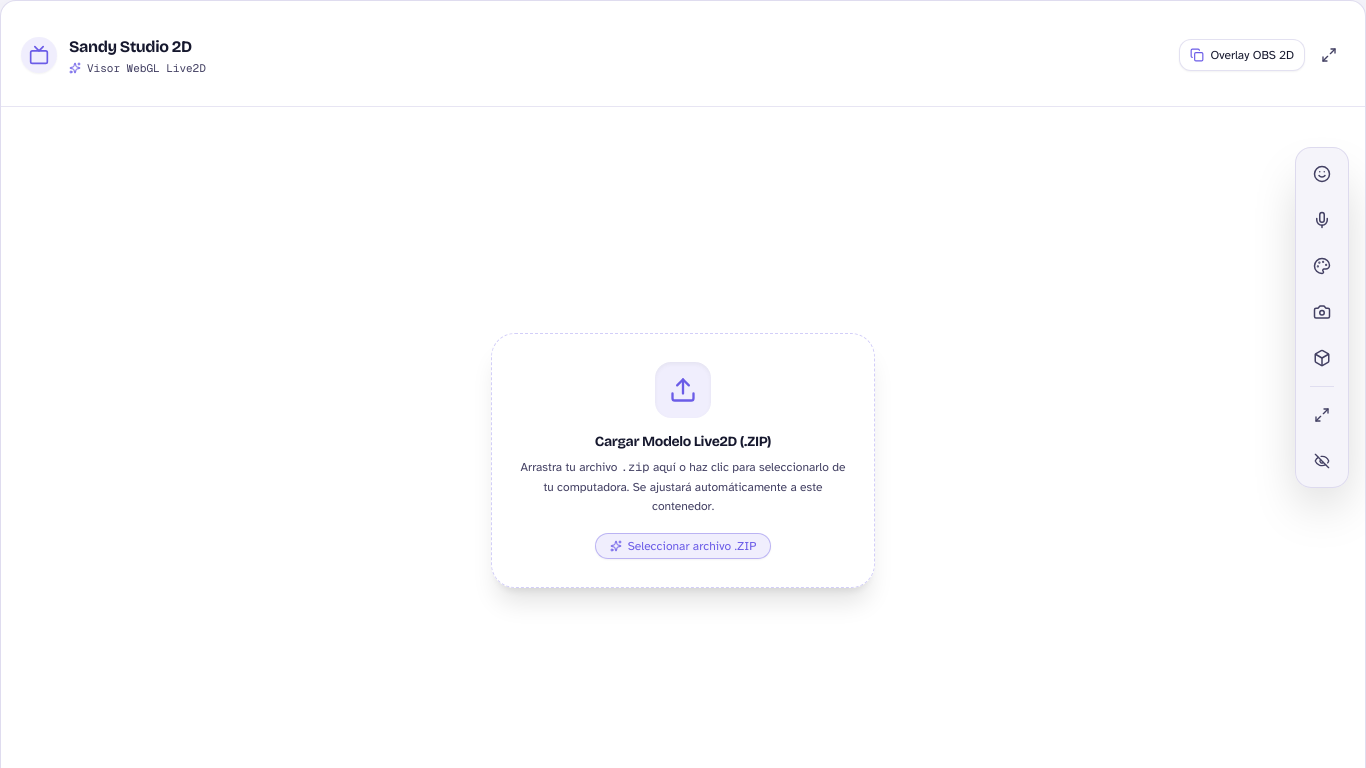
Avatar2dCanvas expressions routing › routes expressions tool to Live2dExpressionsPanel when in live2d mode
Note: Click expressions button in dock
Step 1. Click the button named "expresiones" → [1322, 174], box x1=1302 y1=154 x2=1342 y2=194
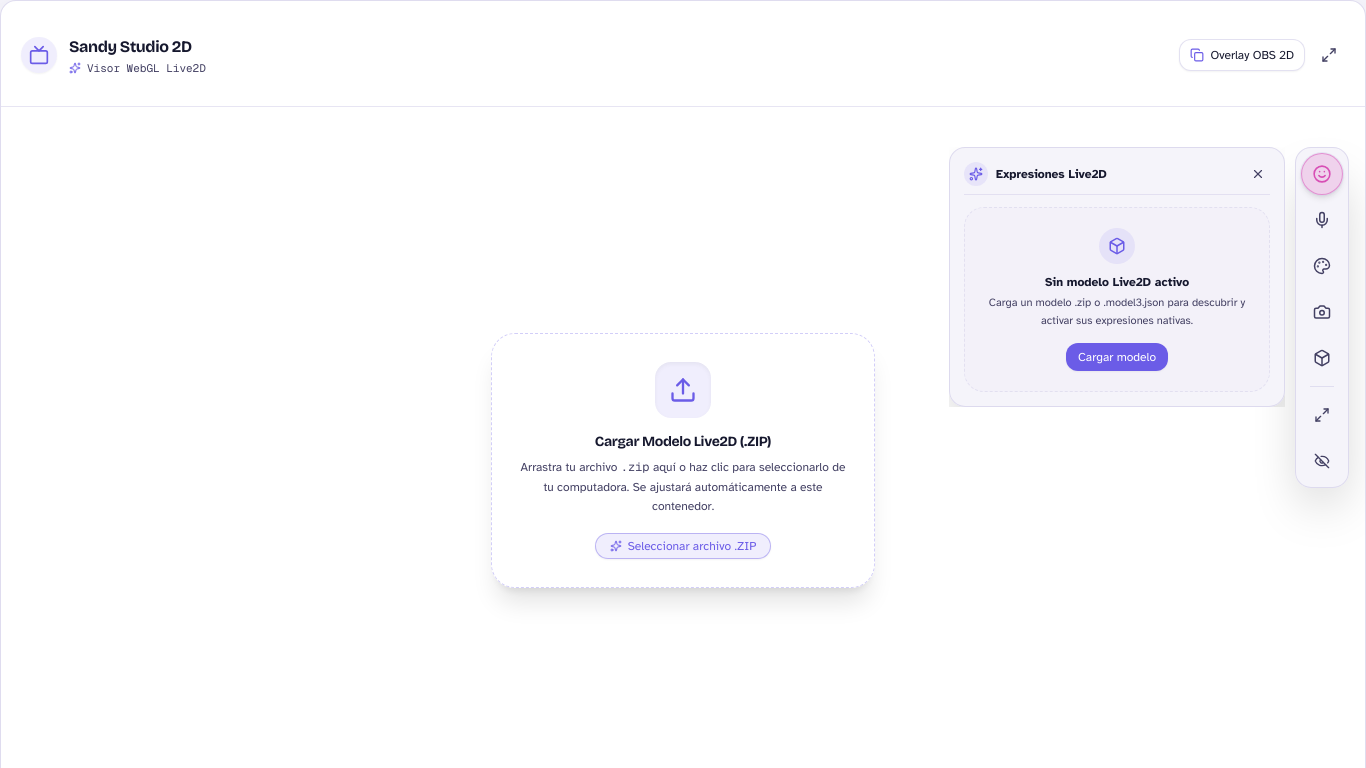
Now the text "Expresiones Live2D" is shown, box x1=996 y1=166 x2=1107 y2=182
